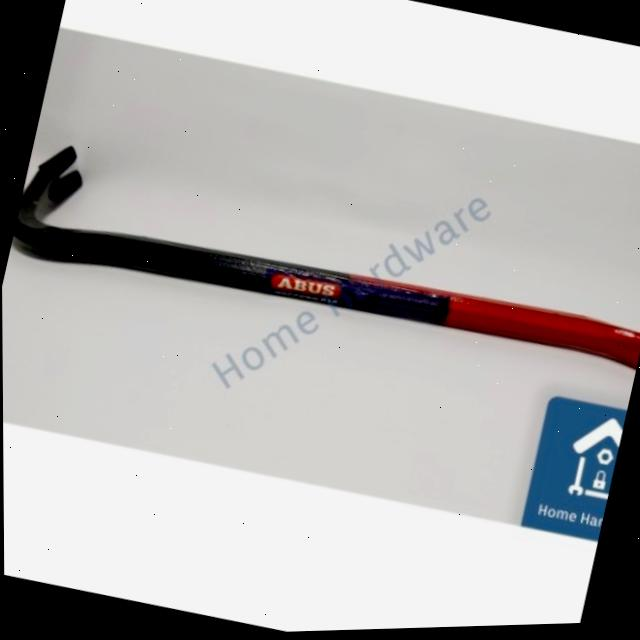crow bar: (12, 145, 640, 378)
